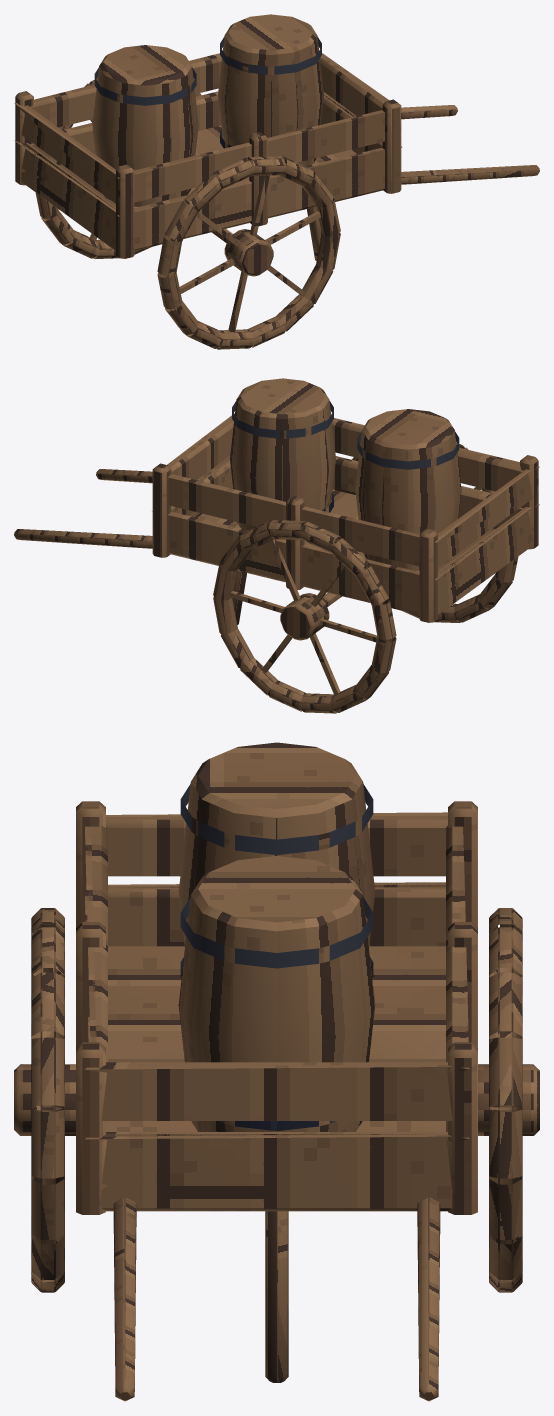
File: handcart_3.glb
The picture shows the model from 3 angles, top to bottom: view 1: azimuth 30°, elevation 25°; view 2: azimuth 150°, elevation 25°; view 3: azimuth 270°, elevation 25°; orthographic projection. The views are drawn at different scales.
Visible parts, largest first — view 1: handcart_4; view 2: handcart_4; view 3: handcart_4.
Part boxes in pixels (x1,y1,x2,y2): handcart_4: [14, 14, 539, 349]; handcart_4: [14, 378, 539, 713]; handcart_4: [14, 742, 539, 1401].
Bounding box in the file's own units: 2.16 × 1.19 × 1.23.
Materials: 3 (3 with a texture image).
